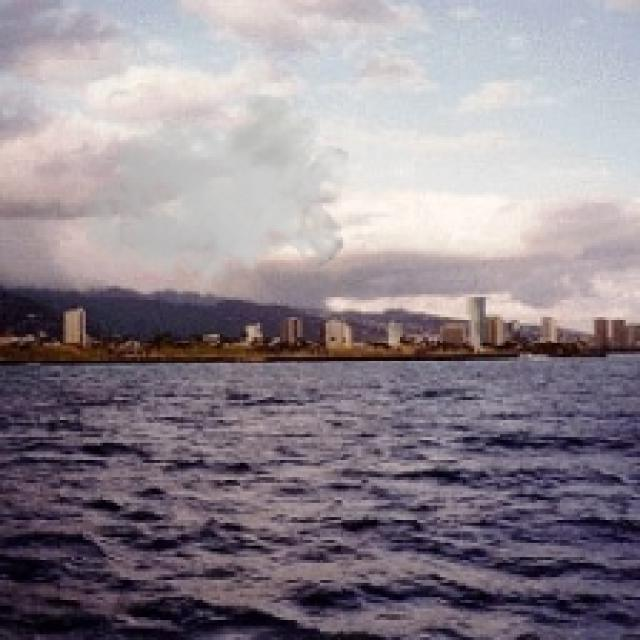smoke: (80, 94, 349, 303)
